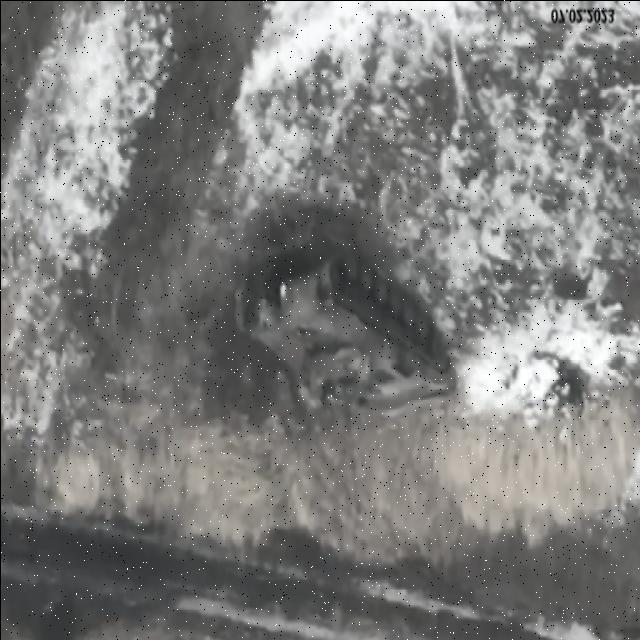APC-IFV: (245, 247, 457, 431)
